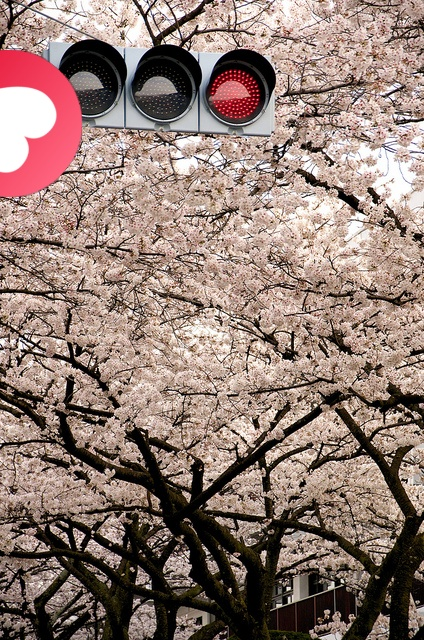love: (0, 50, 82, 197)
